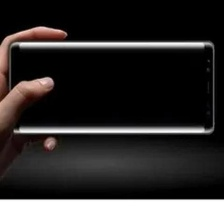phone: (4, 37, 218, 137)
